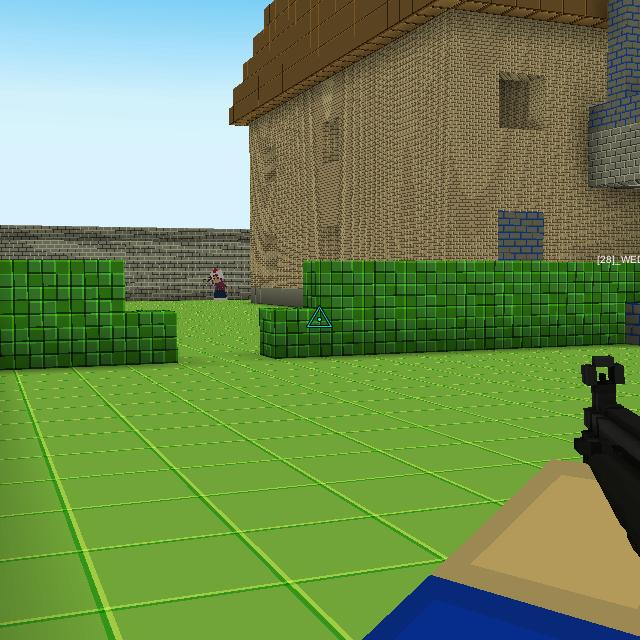enemy: (210, 267, 226, 300)
